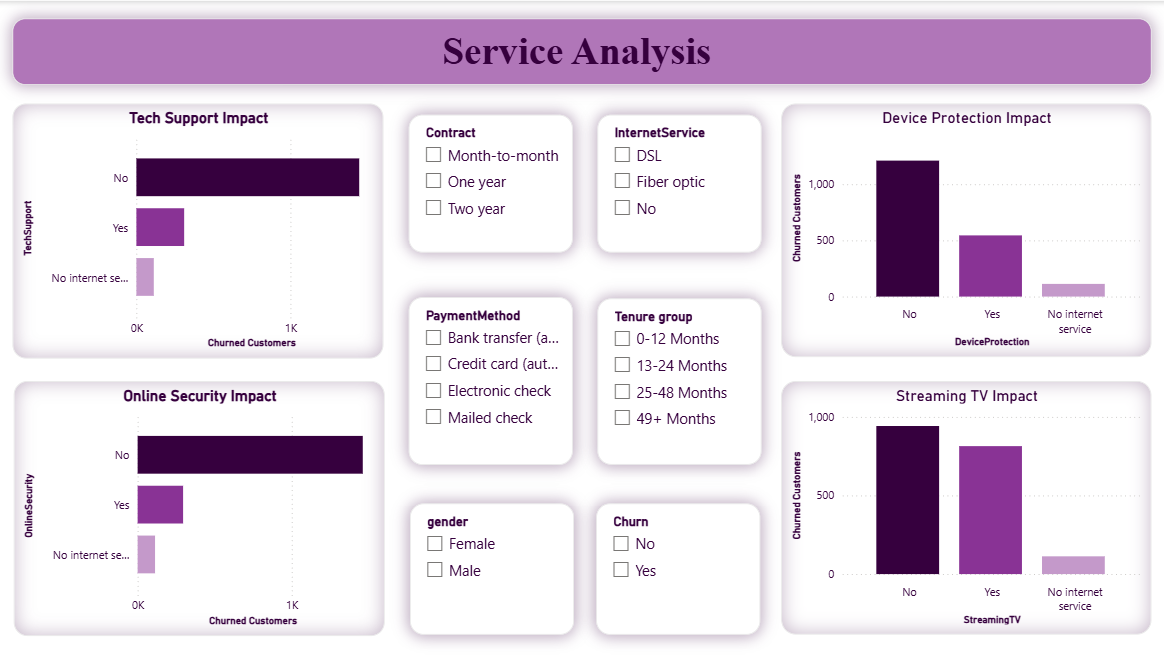

Layout of this report page (visuals, bound fields, positions):
{"tool":"powerbi","page":{"name":"Page 3","canvas":[1280,720],"ordinal":2},"visuals":[{"type":"textbox","box":[13.7,19.2,1250.1,72.7],"z":0},{"type":"barChart","title":"Online Security Impact","fields":{"Category":["Telecom.OnlineSecurity"],"Y":["Telecom.Churned Customers"]},"box":[15.1,417.2,407.5,279.9],"z":1000},{"type":"barChart","title":"Tech Support Impact","fields":{"Y":["Telecom.Churned Customers"],"Category":["Telecom.TechSupport"]},"box":[13.7,112.5,407.5,279.9],"z":2000},{"type":"columnChart","title":"Streaming TV Impact","fields":{"Category":["Telecom.StreamingTV"],"Y":["Telecom.Churned Customers"]},"box":[857.6,417.2,406.2,278.6],"z":3000},{"type":"columnChart","title":"Device Protection Impact","fields":{"Y":["Telecom.Churned Customers"],"Category":["Telecom.DeviceProtection"]},"box":[857.6,112.5,406.2,278.6],"z":4000},{"type":"slicer","fields":{"Values":["Telecom.Contract"]},"box":[448.7,124.9,179.8,150.9],"z":5000},{"type":"slicer","fields":{"Values":["Telecom.PaymentMethod"]},"box":[448.7,325.2,179.8,183.9],"z":6000},{"type":"slicer","fields":{"Values":["Telecom.gender"]},"box":[450.1,551.6,179.8,144.1],"z":7000},{"type":"slicer","fields":{"Values":["Telecom.InternetService"]},"box":[655.9,124.9,179.8,150.9],"z":8000},{"type":"slicer","fields":{"Values":["Telecom.Tenure group"]},"box":[655.9,326.6,179.8,182.5],"z":9000},{"type":"slicer","fields":{"Values":["Telecom.Churn"]},"box":[654.5,551.6,179.8,144.1],"z":10000}]}

Visuals, with their boxes in screenshot pixels (x1, y1, x2, y2), scaled from the page's 1280x720 canvas onto the 1164x657 screenshot:
textbox: rect(12, 18, 1149, 84)
"Online Security Impact" barChart: rect(14, 381, 384, 636)
"Tech Support Impact" barChart: rect(12, 103, 383, 358)
"Streaming TV Impact" columnChart: rect(780, 381, 1149, 635)
"Device Protection Impact" columnChart: rect(780, 103, 1149, 357)
slicer - Telecom.Contract: rect(408, 114, 572, 252)
slicer - Telecom.PaymentMethod: rect(408, 297, 572, 465)
slicer - Telecom.gender: rect(409, 503, 573, 635)
slicer - Telecom.InternetService: rect(596, 114, 760, 252)
slicer - Telecom.Tenure group: rect(596, 298, 760, 465)
slicer - Telecom.Churn: rect(595, 503, 759, 635)
